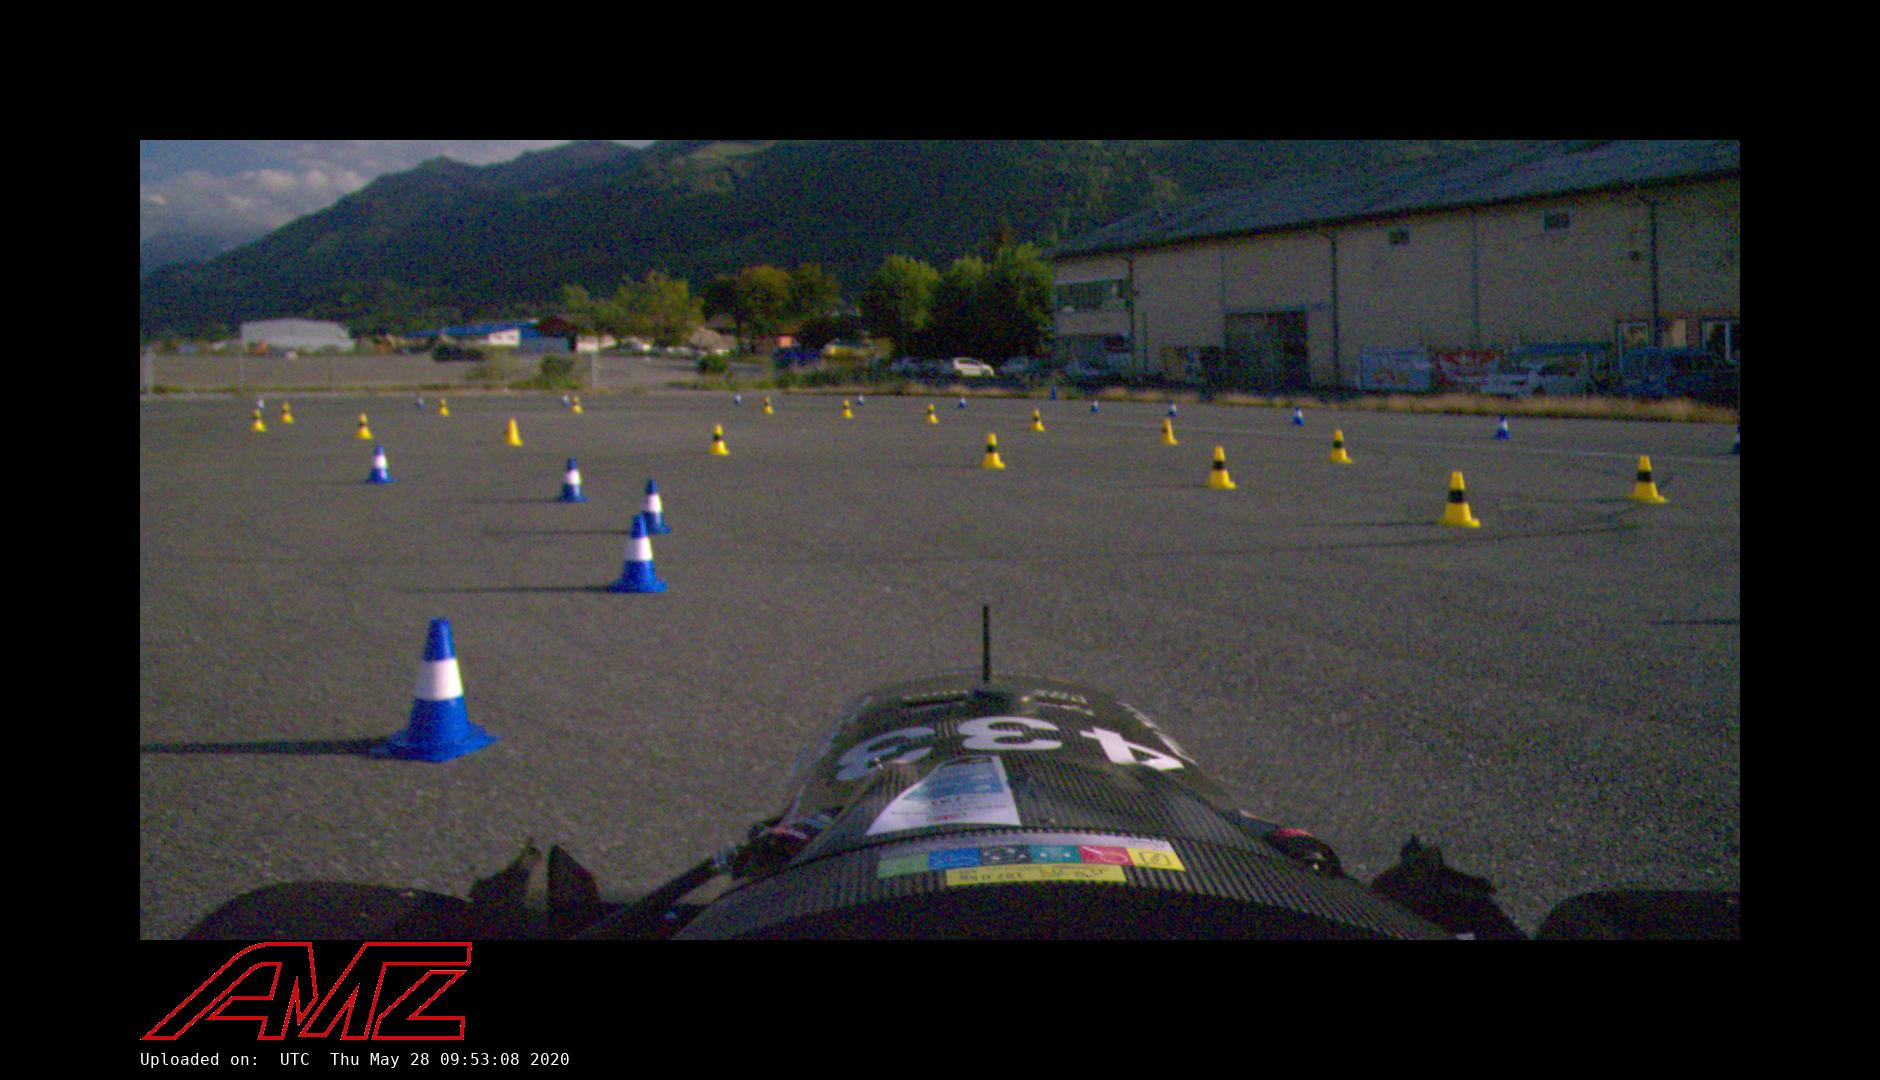blue_cone: (365, 620, 501, 763), (606, 515, 668, 594), (639, 481, 671, 535), (557, 459, 587, 503), (364, 444, 395, 483), (1495, 416, 1513, 439), (1291, 406, 1305, 426), (1167, 400, 1178, 417), (416, 397, 426, 410), (1090, 399, 1100, 412), (733, 393, 742, 406), (257, 395, 265, 410), (562, 394, 569, 407), (958, 397, 966, 408), (857, 395, 865, 406)
yellow_cone: (1436, 472, 1480, 528), (1626, 456, 1671, 504), (1203, 447, 1234, 490), (980, 433, 1005, 469), (1327, 431, 1352, 464), (708, 425, 731, 456), (354, 413, 374, 441), (504, 419, 524, 444), (1160, 419, 1178, 444), (278, 400, 294, 424), (250, 410, 267, 431), (1030, 410, 1045, 431), (925, 404, 939, 422), (436, 399, 451, 416), (841, 400, 853, 419), (571, 397, 584, 413), (763, 397, 773, 413)
